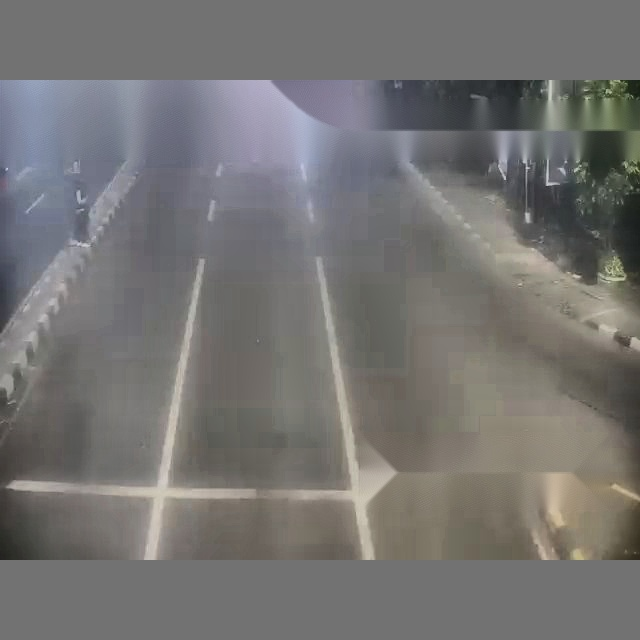Truk: (189, 77, 640, 556)
